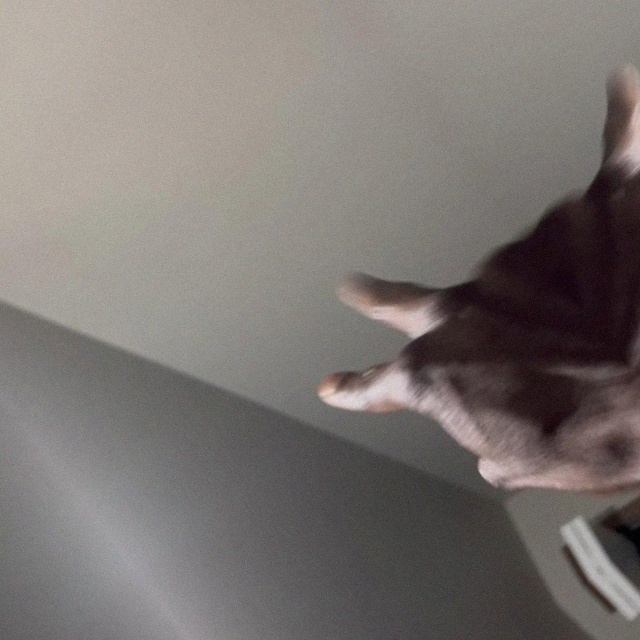Scissors: (273, 172, 640, 640)
